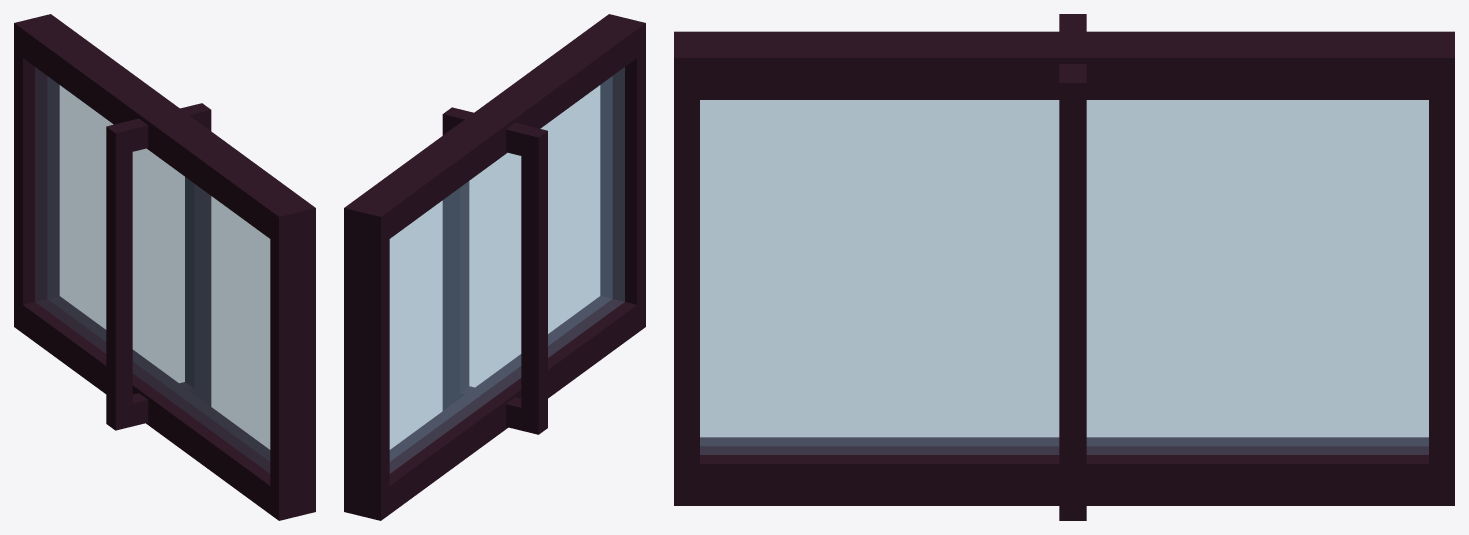
File: Door.fbx
3 views of the same model, side by side, from view 1: azimuth 30°, elevation 25°; view 2: azimuth 150°, elevation 25°; view 3: azimuth 270°, elevation 25° (orthographic). The views are drawn at different scales.
Parts seen in each view (by area): view 1: Door; view 2: Door; view 3: Door.
Part boxes in pixels (x1,y1,x2,y2): Door: [14, 14, 315, 520]; Door: [344, 14, 645, 520]; Door: [674, 14, 1454, 520].
Size of the model in its own units: 22.6 by 68.41 by 108.
